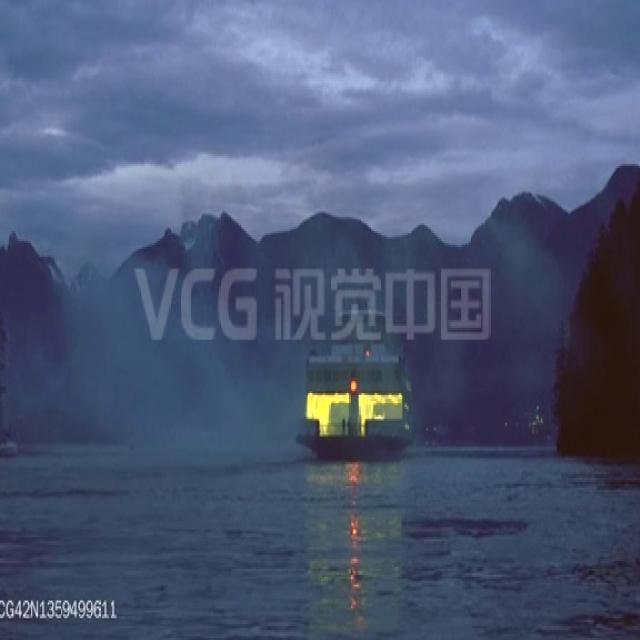passenger ship: (297, 293, 415, 452)
